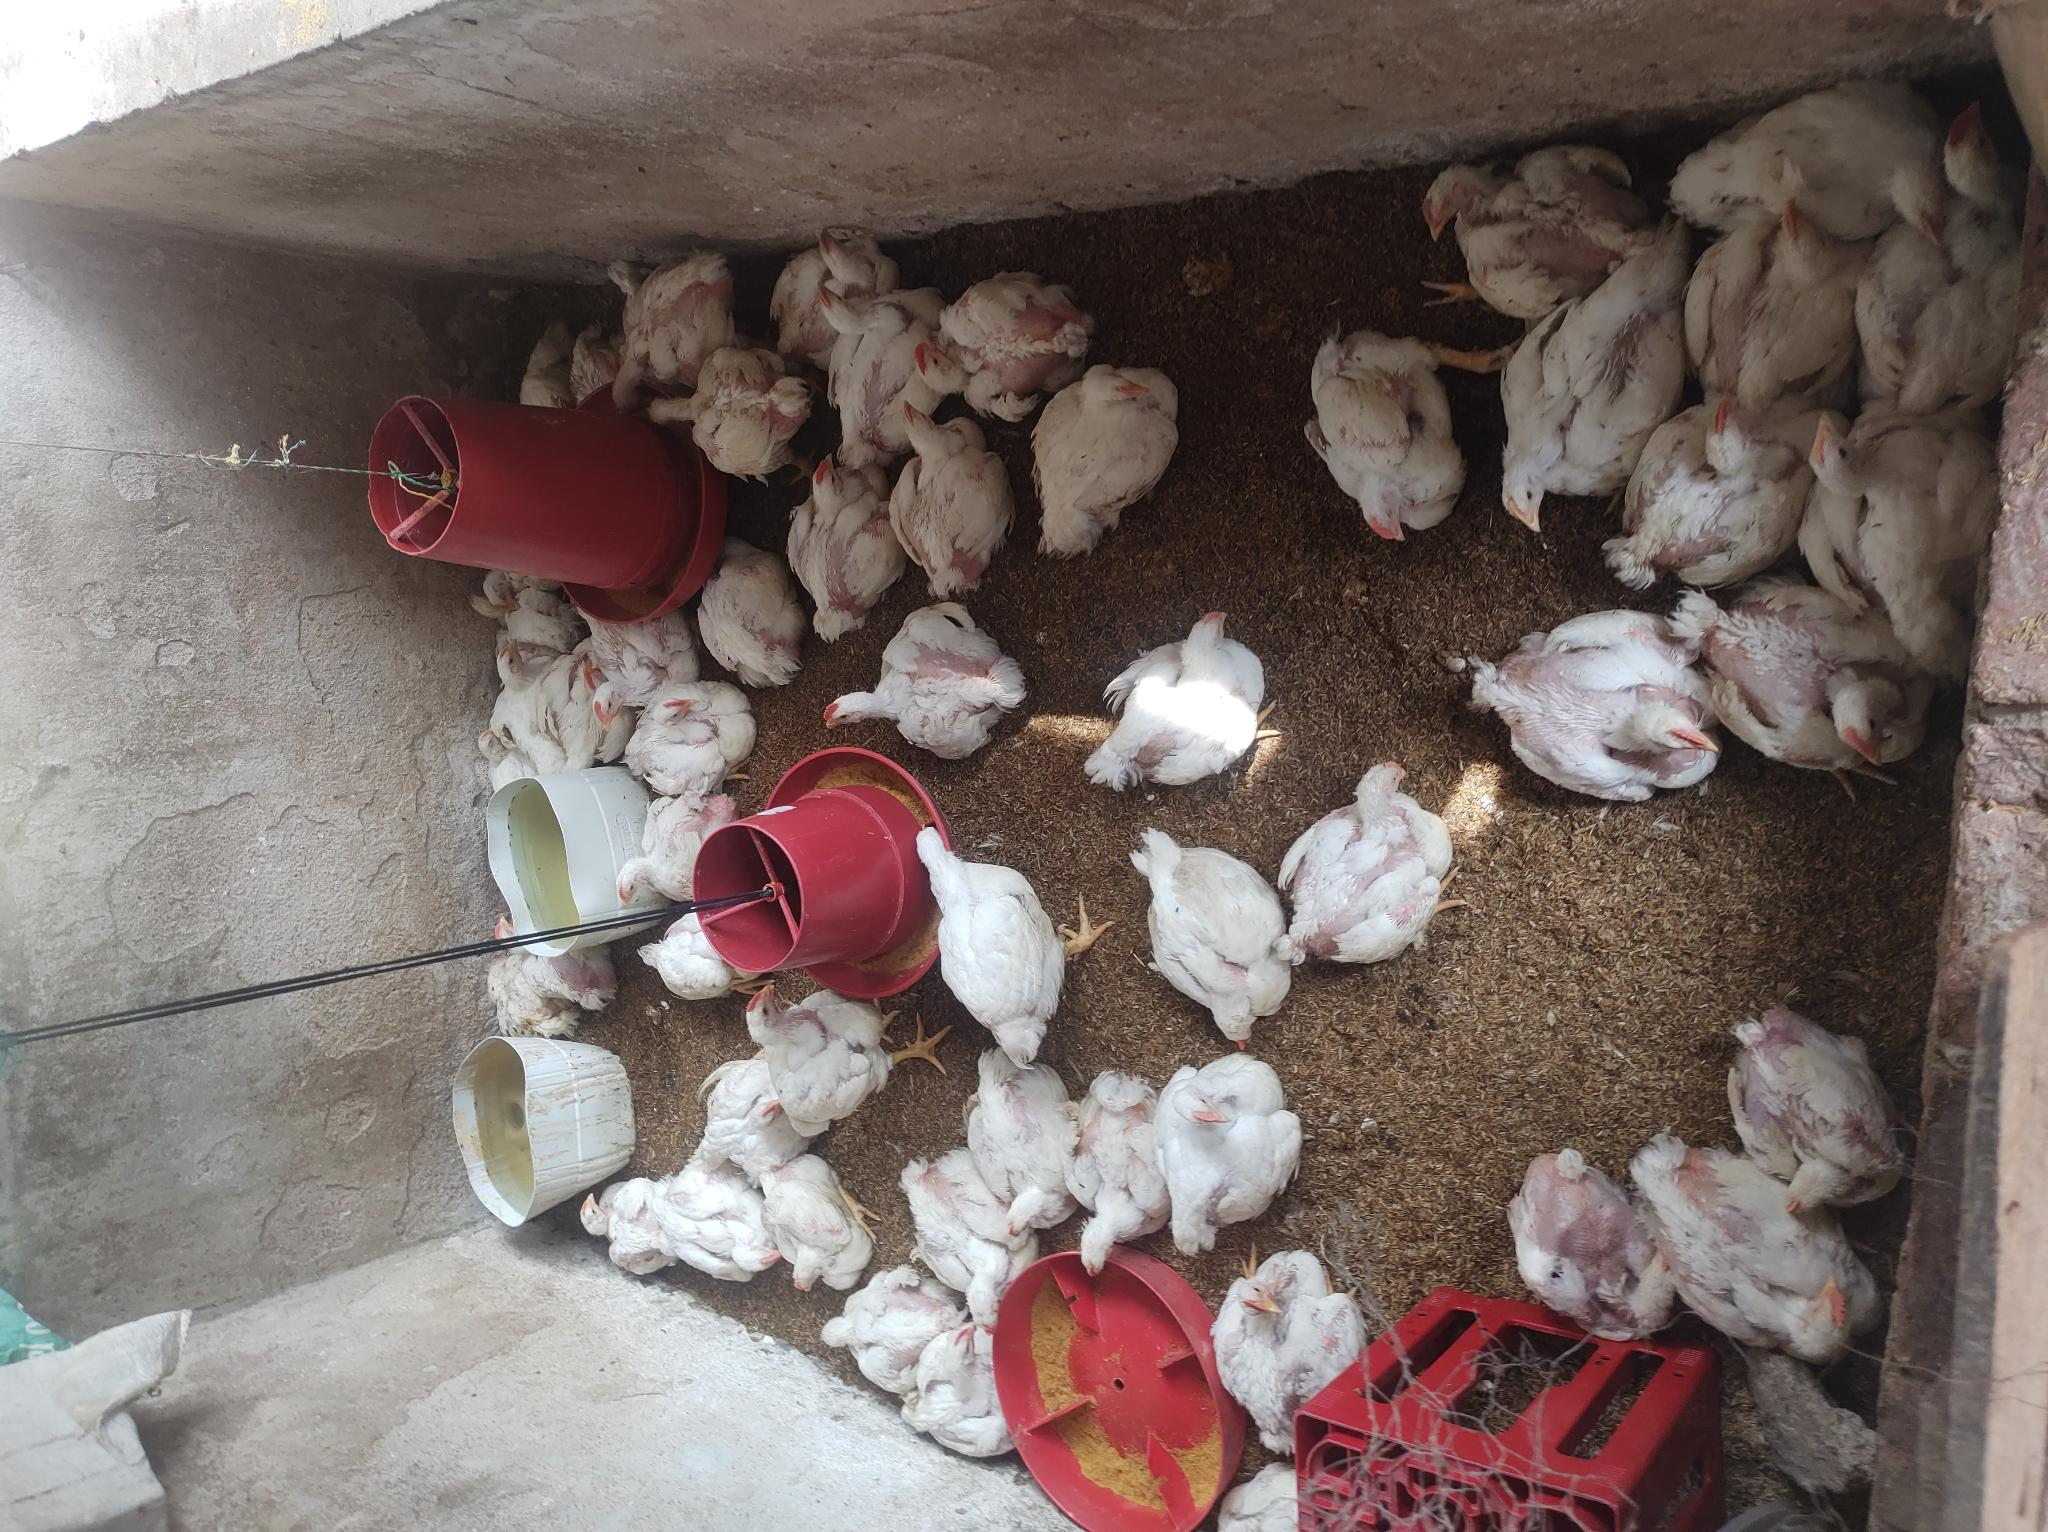Pollos: (1483, 240, 1699, 537), (1631, 1115, 1902, 1352), (1684, 579, 1934, 800), (1676, 68, 1961, 253), (1717, 974, 1924, 1220), (1865, 97, 2035, 396), (1511, 1136, 1713, 1384), (1461, 612, 1697, 824), (899, 813, 1075, 1069), (1800, 397, 2009, 607), (1112, 809, 1279, 1057), (1400, 124, 1647, 286), (714, 946, 906, 1155), (1078, 605, 1266, 809), (1618, 381, 1824, 566), (1205, 1246, 1404, 1435), (1285, 760, 1467, 961), (1314, 314, 1467, 546), (824, 594, 1018, 776), (1710, 187, 1863, 409), (1162, 1044, 1322, 1250), (1038, 365, 1195, 570), (896, 1136, 1051, 1334), (915, 262, 1099, 422), (800, 270, 948, 446), (470, 904, 627, 1062), (1060, 1072, 1179, 1278), (611, 220, 735, 407), (896, 1324, 1034, 1489), (894, 401, 1014, 591), (640, 348, 808, 480), (951, 1052, 1075, 1229), (745, 1146, 877, 1310), (792, 447, 901, 628), (822, 1257, 957, 1402), (648, 1162, 775, 1315), (621, 679, 785, 797), (607, 766, 729, 904), (775, 203, 896, 340), (1155, 1435, 1322, 1532), (677, 1044, 785, 1183), (550, 1167, 658, 1300), (685, 529, 801, 653), (631, 917, 750, 1025), (595, 610, 697, 721), (489, 636, 574, 732), (518, 320, 597, 414), (462, 587, 573, 652), (476, 546, 571, 610), (465, 716, 541, 784), (573, 653, 623, 697)
